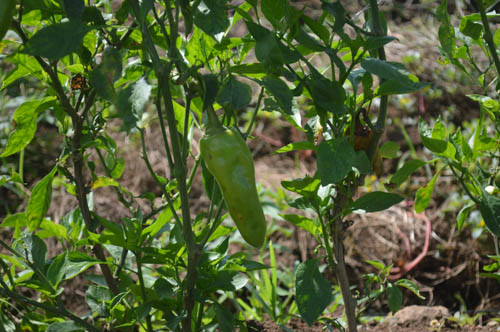ChiliPepper: (200, 126, 266, 248)
